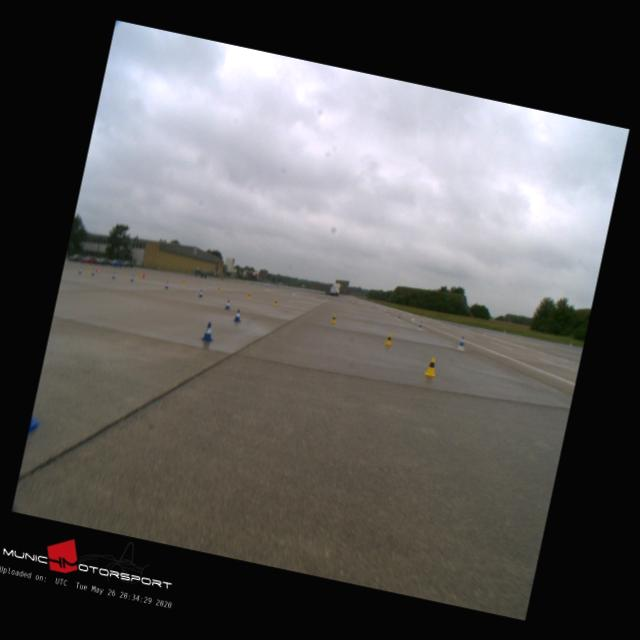blue_cone: (202, 321, 216, 341), (232, 309, 242, 322)
yellow_cone: (424, 355, 438, 376), (383, 332, 392, 344), (330, 311, 337, 323)
